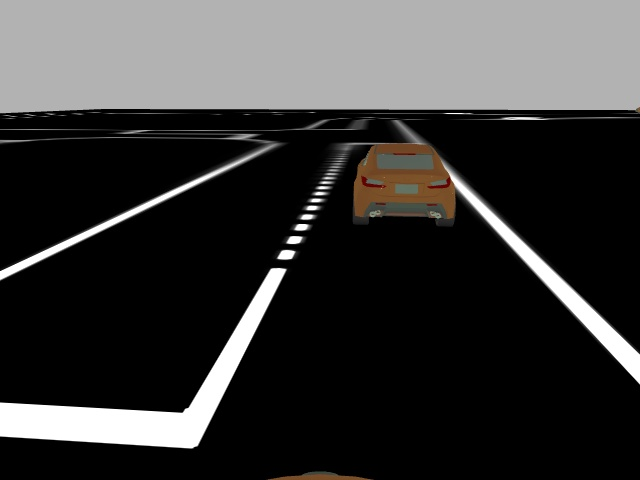obstacle_car: (349, 142, 460, 228)
